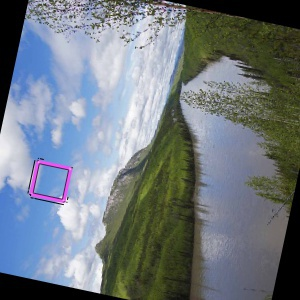square: (25, 157, 74, 207)
